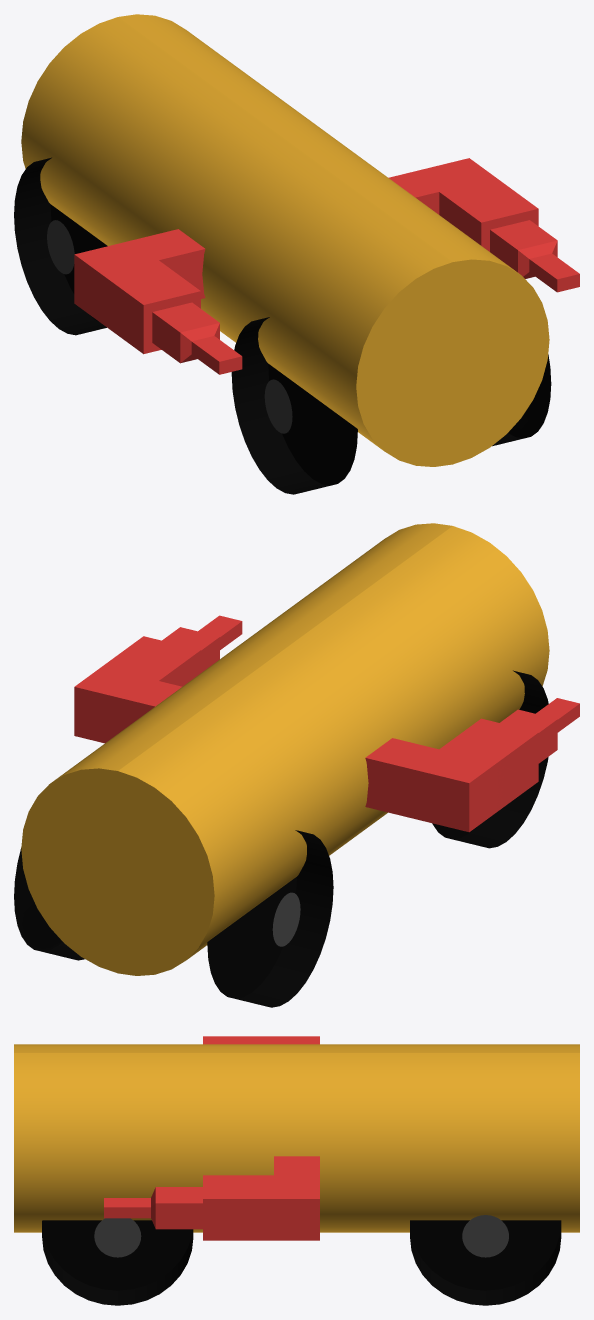
The model's file is car.fbx.
The picture shows the model from 3 angles, top to bottom: view 1: azimuth 30°, elevation 25°; view 2: azimuth 150°, elevation 25°; view 3: azimuth 270°, elevation 25°; orthographic projection. The views are drawn at different scales.
Visible parts, largest first — view 1: Cylinder; view 2: Cylinder; view 3: Cylinder.
Boxes of the visible parts, x1,y1,x2,y2 form: Cylinder: [14, 14, 579, 494]; Cylinder: [14, 523, 579, 1007]; Cylinder: [14, 1036, 579, 1305].
Bounding box in the file's own units: 409 × 600 × 240.
